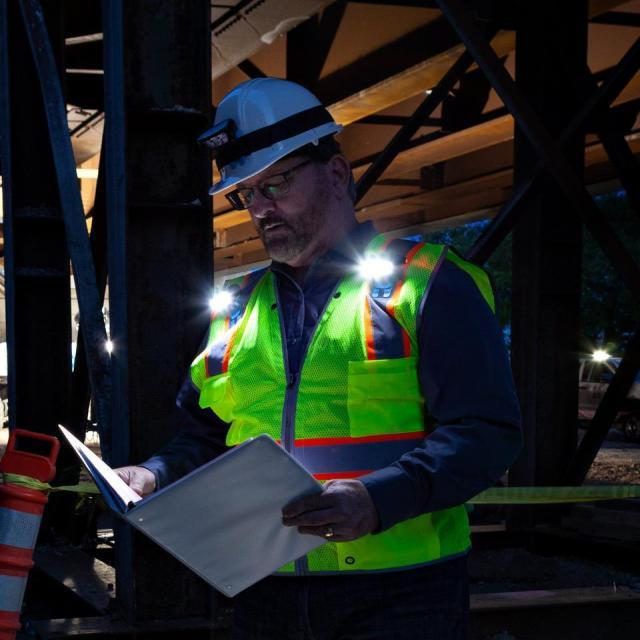reflective_jacket: (192, 230, 495, 567)
safety_helmet: (200, 72, 346, 195)
